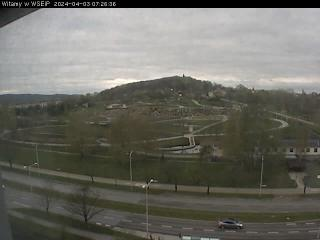car: (217, 216, 243, 231)
